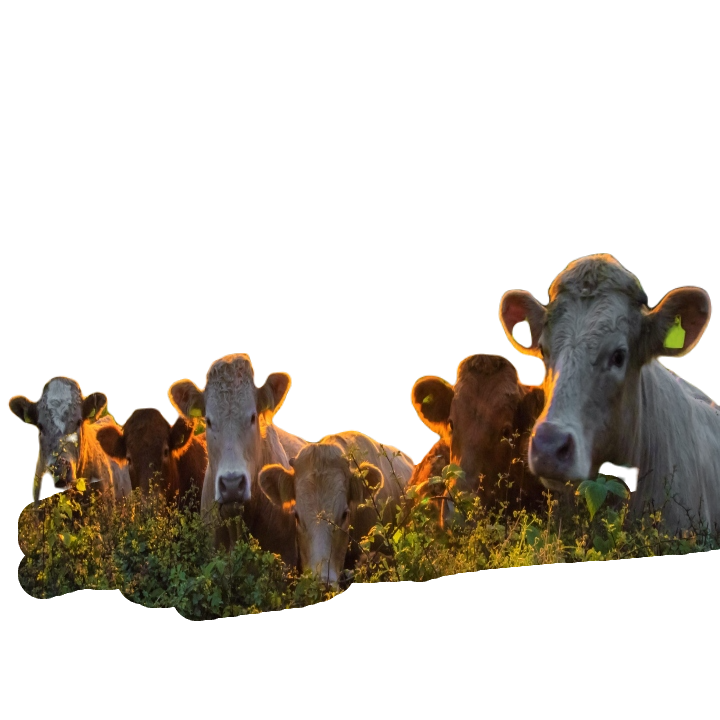Cow: (495, 254, 719, 567)
